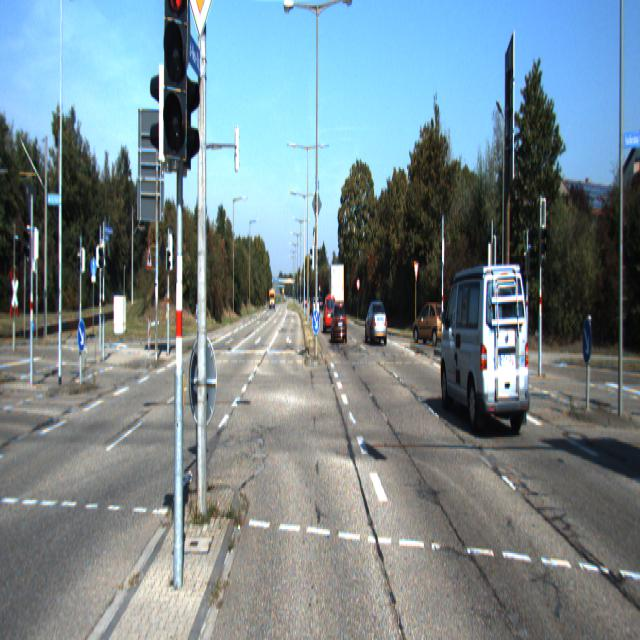Car: (439, 254, 533, 441), (412, 298, 446, 344), (365, 300, 387, 346), (328, 261, 344, 319), (331, 302, 347, 345), (323, 294, 337, 334)
